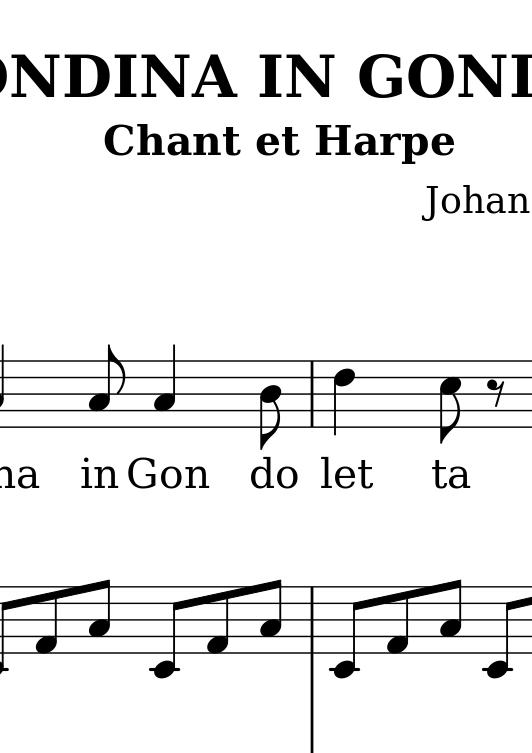4_3: (151, 341, 178, 428)
4_6: (333, 359, 354, 436)
8_-2: (147, 584, 187, 680), (481, 583, 517, 682), (328, 586, 364, 678)
8_1: (204, 585, 232, 655), (385, 584, 410, 657), (35, 585, 61, 655)
8_3: (86, 343, 126, 431), (86, 578, 113, 654), (437, 579, 463, 656), (258, 577, 282, 654)
8_4: (257, 359, 283, 451)
8_5: (437, 359, 463, 444)
Rests8: (486, 376, 509, 407)
Single_barline: (305, 360, 321, 427), (306, 586, 322, 653)
